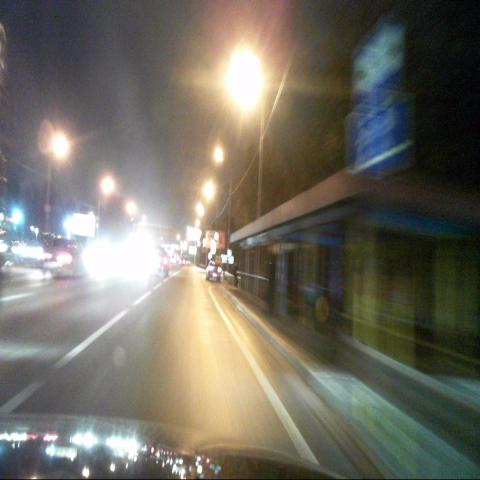6_6: (373, 95, 414, 172)
